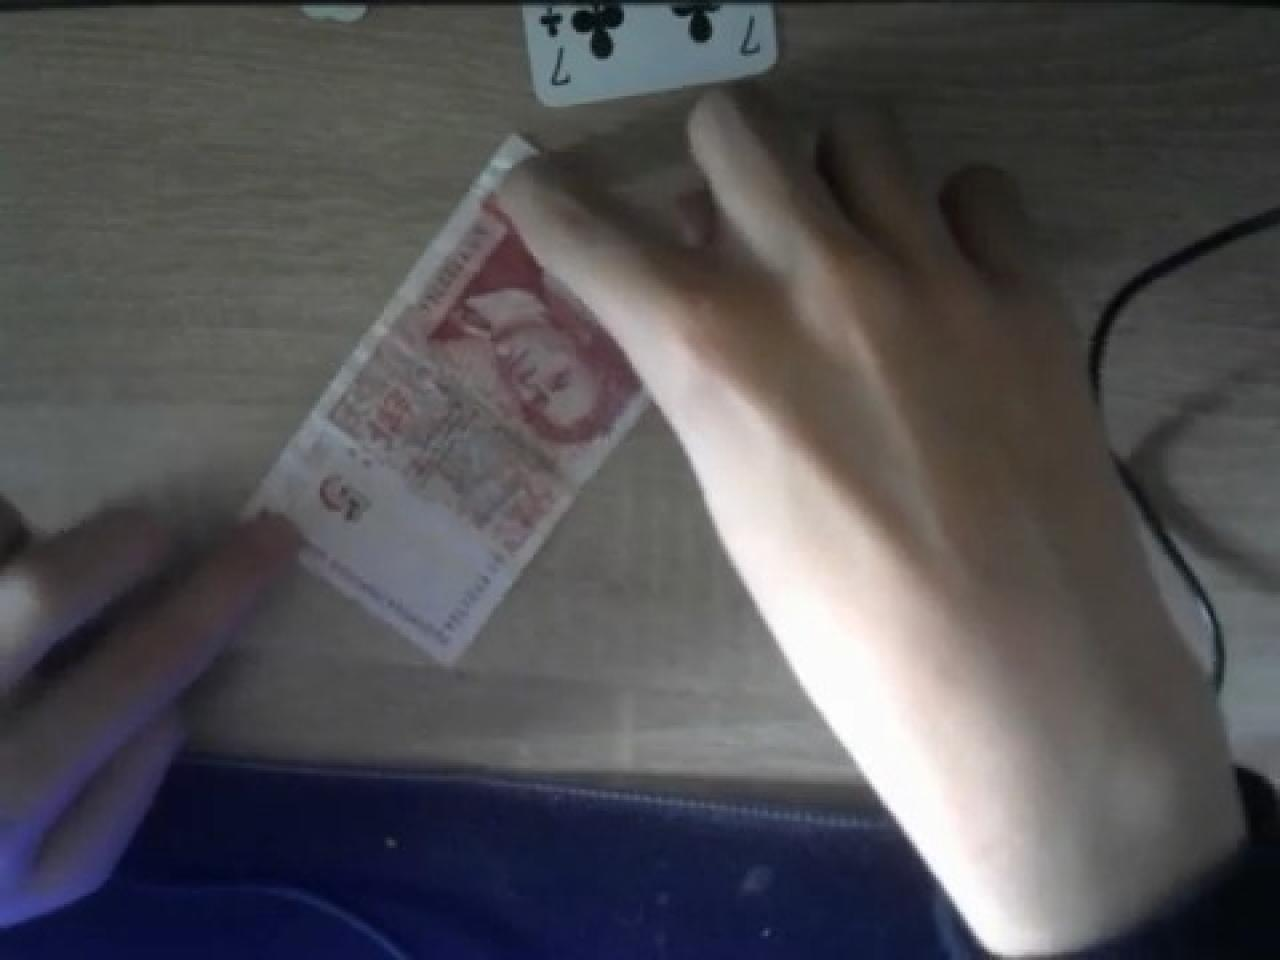5leva: (235, 128, 651, 658)
